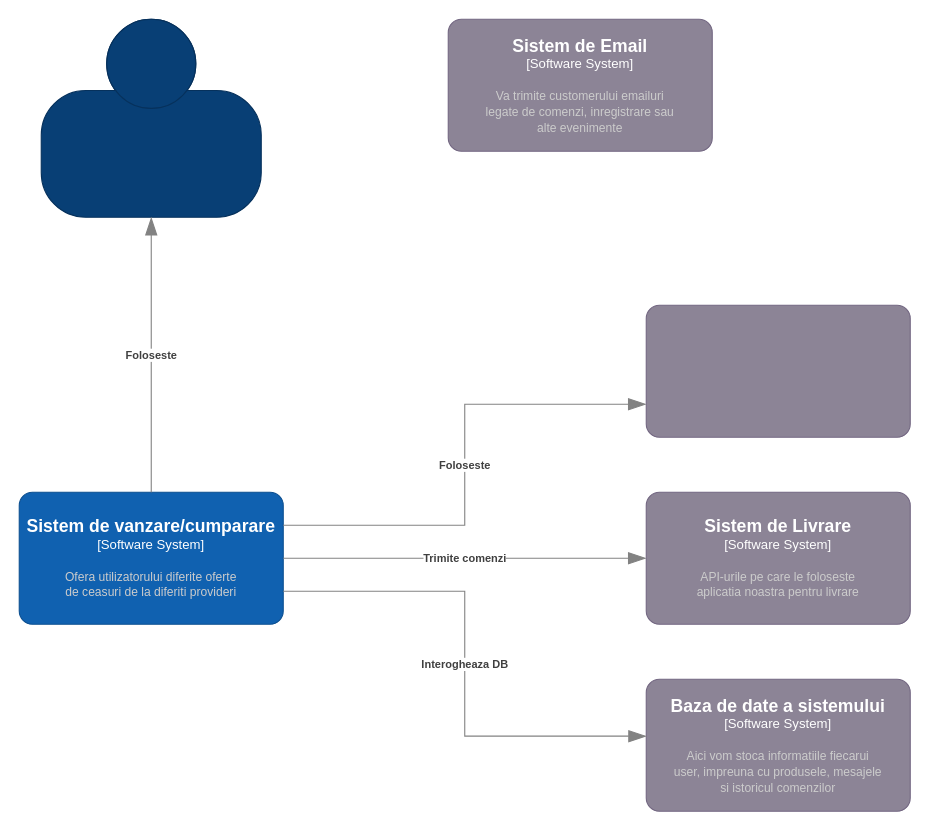
Image size: 930x831. Some labels were removed from this diagram. The shapes that lost their labels are listed below. From the top down, each one's box as (x1, y1, x2, y2) in pixels, then its label:
(40, 18, 261, 217): Customer [User] Un user ce are cont pe aplicatia de ecommerce
(645, 304, 910, 437): Auth0 [Software System] Metoda de autentificare a unui customer
